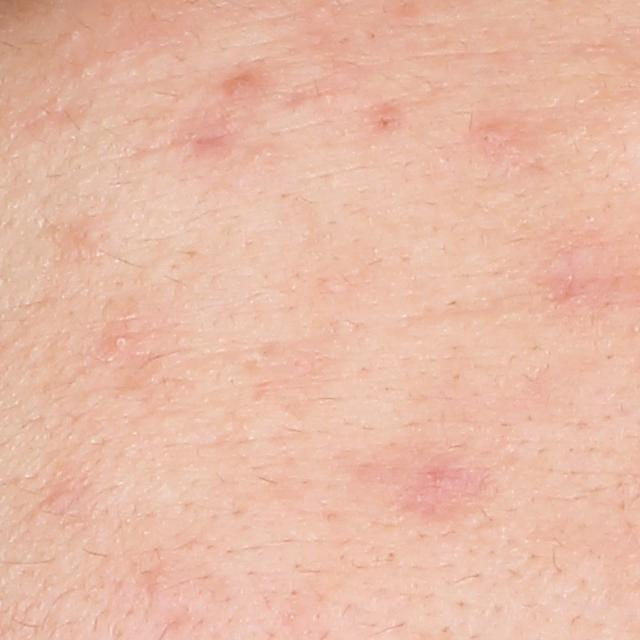comedo: (111, 336, 131, 350)
papule: (225, 76, 256, 98)
